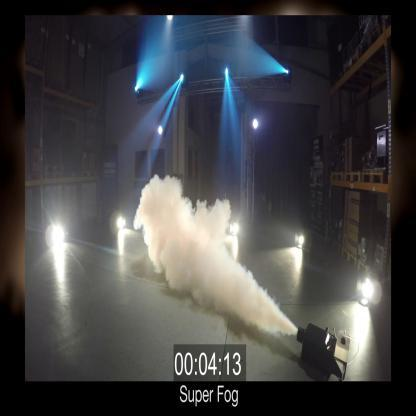smoke: (131, 172, 278, 329)
